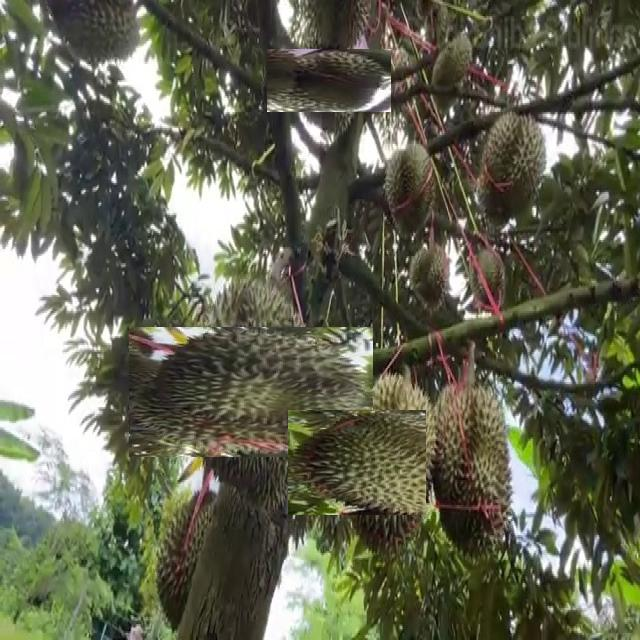durian: (157, 299, 345, 486), (310, 387, 461, 538), (426, 372, 515, 562), (153, 484, 241, 638), (282, 33, 376, 127), (478, 108, 549, 225), (43, 0, 141, 73), (382, 138, 441, 244), (429, 28, 477, 104), (407, 240, 452, 318), (471, 242, 509, 314)
